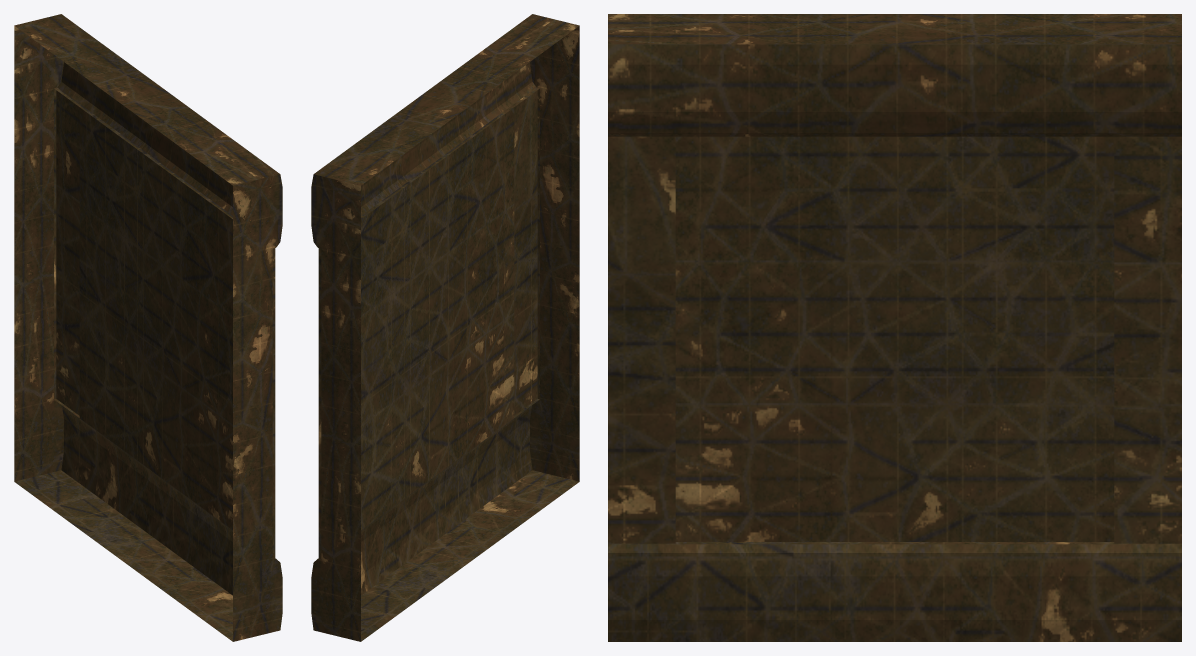
The model's file is wallPrefab1x1.fbx.
3 views of the same model, side by side, from view 1: azimuth 30°, elevation 25°; view 2: azimuth 150°, elevation 25°; view 3: azimuth 270°, elevation 25° (orthographic). The views are drawn at different scales.
Visible parts, largest first — view 1: wallPrefab1x1; view 2: wallPrefab1x1; view 3: wallPrefab1x1.
Part boxes in pixels (x1,y1,x2,y2): wallPrefab1x1: [14, 14, 282, 641]; wallPrefab1x1: [311, 14, 579, 641]; wallPrefab1x1: [608, 14, 1181, 641].
Size of the model in its own units: 25.03 by 220 by 191.
